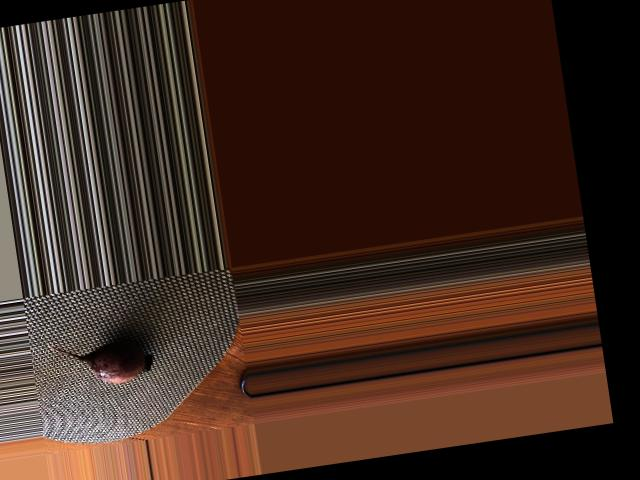beet: (47, 327, 156, 392)
